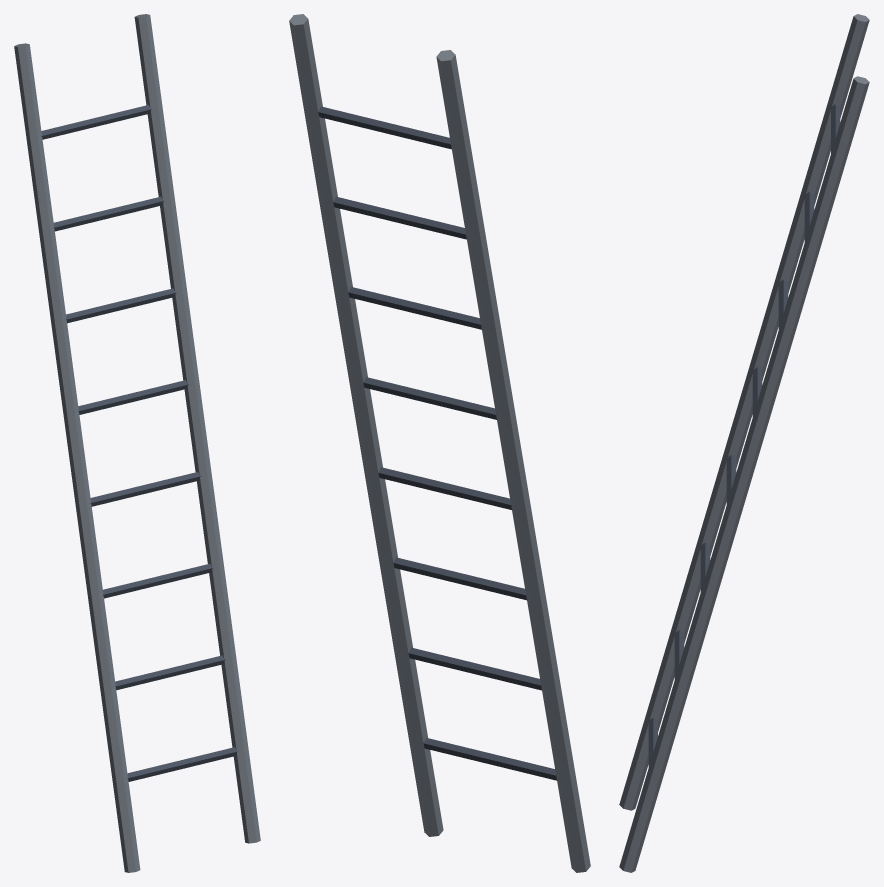
File: ladder_leaning.glb
3 views of the same model, side by side, from view 1: azimuth 30°, elevation 25°; view 2: azimuth 150°, elevation 25°; view 3: azimuth 270°, elevation 25° (orthographic). The views are drawn at different scales.
Visible parts, largest first — view 1: ladder_leaning; view 2: ladder_leaning; view 3: ladder_leaning.
Boxes of the visible parts, <box> form: ladder_leaning: <box>14,14,260,872</box>; ladder_leaning: <box>289,14,590,872</box>; ladder_leaning: <box>619,14,869,872</box>.
Size of the model in its own units: 0.4833 by 2.61 by 0.7483.
